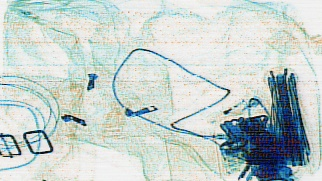lighter: (203, 93, 257, 126)
